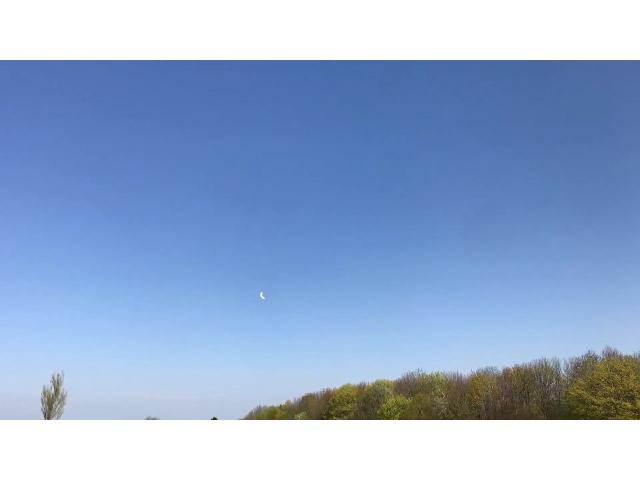Anti-Drone: (252, 286, 278, 311)
